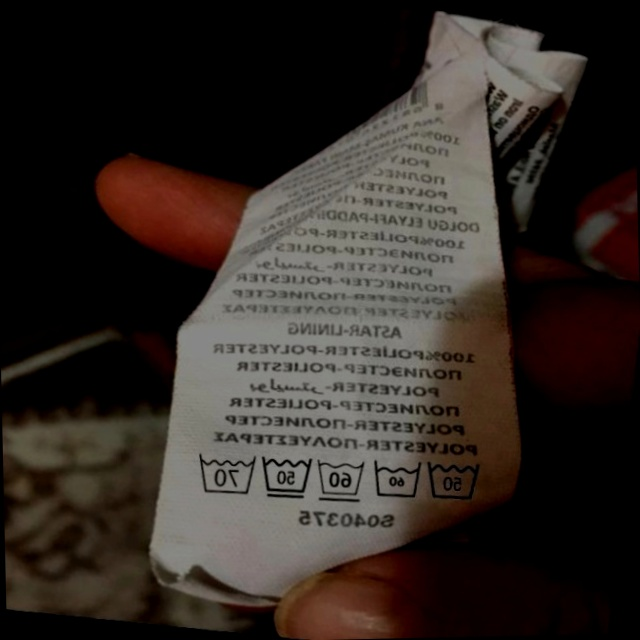50C: (419, 450, 488, 509), (253, 448, 317, 505)
60C: (309, 451, 369, 507), (365, 452, 426, 506)
70C: (188, 446, 258, 501)
